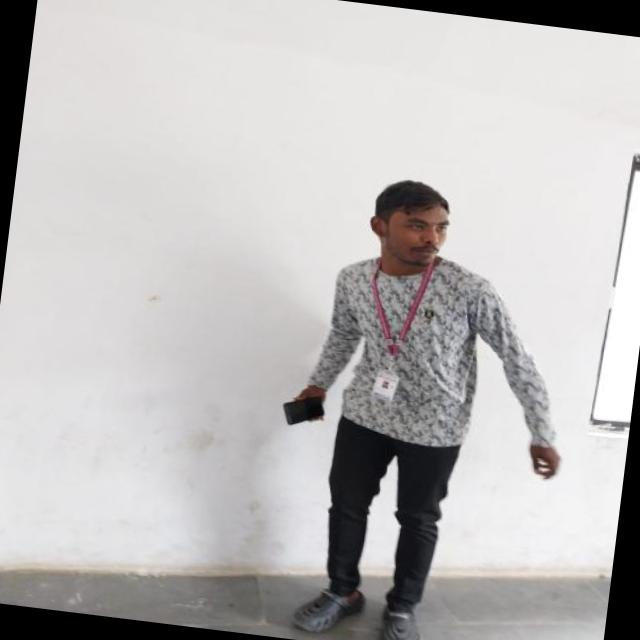id_card: (356, 251, 436, 402)
